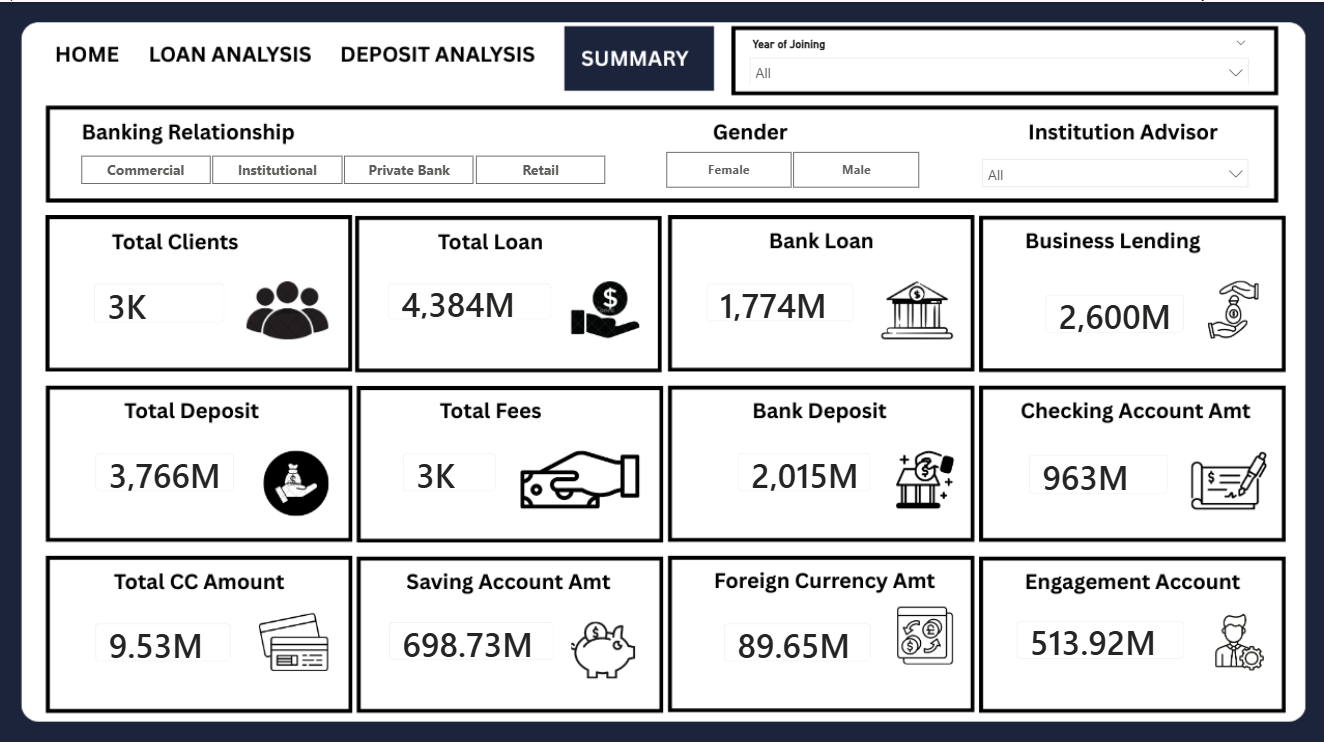

The dashboard page shown, as its layout file describes it:
{"tool":"powerbi","page":{"name":"Summary","canvas":[1280,720],"ordinal":3},"visuals":[{"type":"slicer","fields":{"Values":["Banking_Clients.Year of Joining"]},"box":[714.2,29,501.9,50.7],"z":0},{"type":"slicer","fields":{"Values":["Banking_Clients.BRId"]},"box":[53.1,141.2,556.2,41],"z":1000},{"type":"slicer","fields":{"Values":["Banking_Clients.GenderId"]},"box":[617.7,137.5,294.4,48.3],"z":2000},{"type":"slicer","fields":{"Values":["Banking_Clients.IAId"]},"box":[938.6,141.2,277.5,39.8],"z":3000},{"type":"cardVisual","fields":{"Data":["CountNonNull(Banking_Clients.BRId)"]},"box":[75,254.4,160.7,72.3],"z":4000},{"type":"cardVisual","fields":{"Data":["Banking_Clients.Total Loan"]},"box":[358.8,254.4,192.8,69.6],"z":5000},{"type":"cardVisual","fields":{"Data":["Sum(Banking_Clients.Bank Loans)"]},"box":[666,254.6,176.1,71.2],"z":6000},{"type":"cardVisual","fields":{"Data":["Sum(Banking_Clients.Business Lending)"]},"box":[992.9,265.4,168.9,71.2],"z":7000},{"type":"cardVisual","fields":{"Data":["Banking_Clients.Total Deposit"]},"box":[76,418.6,168.9,71.2],"z":8000},{"type":"cardVisual","fields":{"Data":["CountNonNull(Banking_Clients.Fee Structure)"]},"box":[372.8,418.6,124.3,71.2],"z":9000},{"type":"cardVisual","fields":{"Data":["Sum(Banking_Clients.Bank Deposits)"]},"box":[696.1,418.6,162.9,71.2],"z":10000},{"type":"cardVisual","fields":{"Data":["Sum(Banking_Clients.Checking Accounts)"]},"box":[977.4,420.4,168.7,72.3],"z":11000},{"type":"cardVisual","fields":{"Data":["Sum(Banking_Clients.Credit Card Balance)"]},"box":[76,582.7,165.3,71.2],"z":12000},{"type":"cardVisual","fields":{"Data":["Sum(Banking_Clients.Saving Accounts)"]},"box":[359.5,581.5,193,71.2],"z":13000},{"type":"cardVisual","fields":{"Data":["Sum(Banking_Clients.Foreign Currency Account)"]},"box":[682.8,582.7,176.1,71.2],"z":14000},{"type":"cardVisual","fields":{"Data":["Sum(Banking_Clients.Estimated Income)"]},"box":[965.2,580.3,196.6,71.2],"z":15000},{"type":"actionButton","box":[36.2,33.8,100.1,39.8],"z":16000},{"type":"actionButton","box":[136.3,33.8,170.1,39.8],"z":17000},{"type":"actionButton","box":[308.8,29,217.2,39.8],"z":18000}]}

Visuals, with their boxes in screenshot pixels (x1, y1, x2, y2), scaled from the page's 1280x720 canvas onto the 1324x742 screenshot:
slicer - Banking_Clients.Year of Joining: BBox(739, 30, 1258, 82)
slicer - Banking_Clients.BRId: BBox(55, 146, 630, 188)
slicer - Banking_Clients.GenderId: BBox(639, 142, 943, 191)
slicer - Banking_Clients.IAId: BBox(971, 146, 1258, 187)
cardVisual - CountNonNull(Banking_Clients.BRId): BBox(78, 262, 244, 337)
cardVisual - Banking_Clients.Total Loan: BBox(371, 262, 571, 334)
cardVisual - Sum(Banking_Clients.Bank Loans): BBox(689, 262, 871, 336)
cardVisual - Sum(Banking_Clients.Business Lending): BBox(1027, 274, 1202, 347)
cardVisual - Banking_Clients.Total Deposit: BBox(79, 431, 253, 505)
cardVisual - CountNonNull(Banking_Clients.Fee Structure): BBox(386, 431, 514, 505)
cardVisual - Sum(Banking_Clients.Bank Deposits): BBox(720, 431, 889, 505)
cardVisual - Sum(Banking_Clients.Checking Accounts): BBox(1011, 433, 1185, 508)
cardVisual - Sum(Banking_Clients.Credit Card Balance): BBox(79, 601, 250, 674)
cardVisual - Sum(Banking_Clients.Saving Accounts): BBox(372, 599, 571, 673)
cardVisual - Sum(Banking_Clients.Foreign Currency Account): BBox(706, 601, 888, 674)
cardVisual - Sum(Banking_Clients.Estimated Income): BBox(998, 598, 1202, 671)
actionButton: BBox(37, 35, 141, 76)
actionButton: BBox(141, 35, 317, 76)
actionButton: BBox(319, 30, 544, 71)
